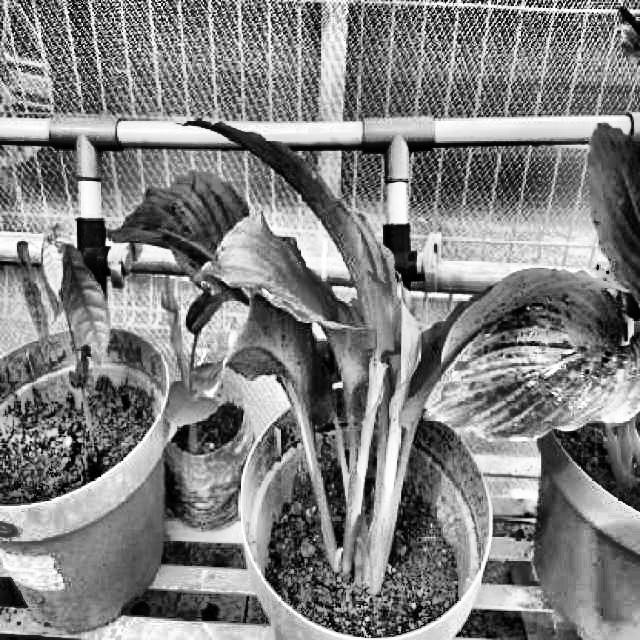plants: (94, 116, 638, 598), (434, 1, 640, 493)
